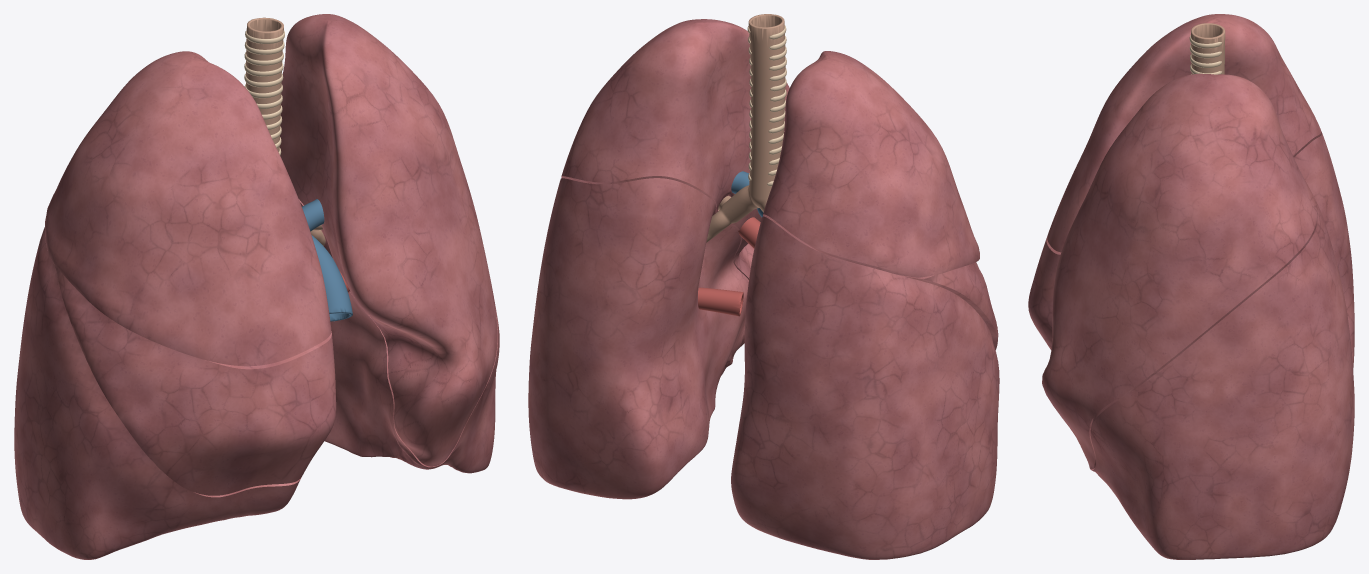
File: airway-recess.glb
The picture shows the model from 3 angles, left to right: view 1: azimuth 30°, elevation 25°; view 2: azimuth 150°, elevation 25°; view 3: azimuth 270°, elevation 25°; orthographic projection. The views are drawn at different scales.
Visible parts, largest first — view 1: RUL, LUL, RLL, RML, LLL, Airway_Tree, Pulmonary_Arteries, Tracheal_Cartilage; view 2: RLL, LLL, RUL, LUL, Airway_Tree, RML, Tracheal_Cartilage, Pulmonary_Vein_L_Inferior; view 3: LUL, LLL, RUL, RLL, RML, Airway_Tree, Tracheal_Cartilage.
Part boxes in pixels (box(x1,y1,x2,y2)): RUL: box(45, 51, 331, 366); LUL: box(279, 14, 497, 466); RLL: box(14, 227, 301, 559); RML: box(53, 263, 336, 495); LLL: box(299, 199, 499, 473); Airway_Tree: box(246, 17, 325, 245); Pulmonary_Arteries: box(302, 199, 352, 321); Tracheal_Cartilage: box(244, 30, 284, 155); RLL: box(731, 216, 999, 559); LLL: box(528, 178, 748, 499); RUL: box(763, 51, 979, 277); LUL: box(561, 19, 789, 358); Airway_Tree: box(706, 14, 785, 242); RML: box(900, 262, 998, 350); Tracheal_Cartilage: box(747, 25, 786, 186); Pulmonary_Vein_L_Inferior: box(698, 287, 743, 316); LUL: box(1042, 73, 1316, 469); LLL: box(1090, 195, 1354, 559); RUL: box(1047, 14, 1321, 252); RLL: box(1293, 131, 1354, 369); RML: box(1028, 237, 1061, 349); Airway_Tree: box(1191, 23, 1225, 74); Tracheal_Cartilage: box(1189, 35, 1222, 74).
Size of the model in its own units: 0.254 by 0.2673 by 0.1804.
10 materials, 5 textured.
